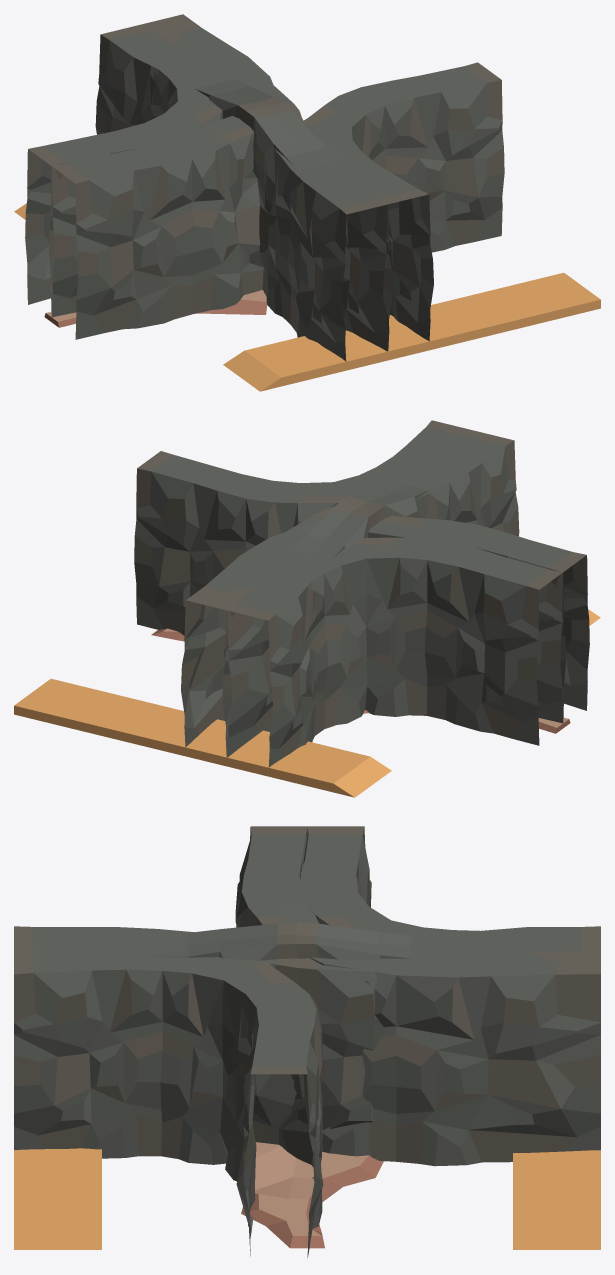
The model's file is Walls.fbx.
The picture shows the model from 3 angles, top to bottom: view 1: azimuth 30°, elevation 25°; view 2: azimuth 150°, elevation 25°; view 3: azimuth 270°, elevation 25°; orthographic projection. The views are drawn at different scales.
Visible parts, largest first — view 1: OnPass2_1010, Incorner_0111, Side_1001, SideVäg_1001, Ingång_1001, Corner2_1000; view 2: OnPass2_1010, Corner2_1000, Incorner_0111, SideVägTvå_1001, Side_1001, Ingång_1001; view 3: OnPass2_1010, Incorner_0111, Ingång_1001, Side_1001, SideVäg_1001, SideVägTvå_1001, Corner2_1000.
Boxes of the visible parts, box(x1,y1,x2,y2) form: OnPass2_1010: box(25, 25, 504, 351); Incorner_0111: box(49, 14, 283, 339); Side_1001: box(95, 34, 392, 361); SideVäg_1001: box(223, 272, 600, 391); Ingång_1001: box(44, 24, 392, 361); Corner2_1000: box(25, 70, 222, 317); OnPass2_1010: box(134, 420, 565, 743); Corner2_1000: box(224, 537, 565, 745); Incorner_0111: box(181, 515, 589, 757); SideVägTvå_1001: box(14, 678, 391, 797); Side_1001: box(222, 441, 519, 767); Ingång_1001: box(151, 430, 570, 744); OnPass2_1010: box(14, 831, 600, 1258); Incorner_0111: box(235, 826, 600, 1166); Ingång_1001: box(14, 922, 600, 1248); Side_1001: box(29, 926, 466, 1144); SideVäg_1001: box(14, 1148, 101, 1249); SideVägTvå_1001: box(513, 1150, 600, 1249); Corner2_1000: box(298, 826, 371, 924).
Size of the model in its own units: 200 by 77.83 by 200.
